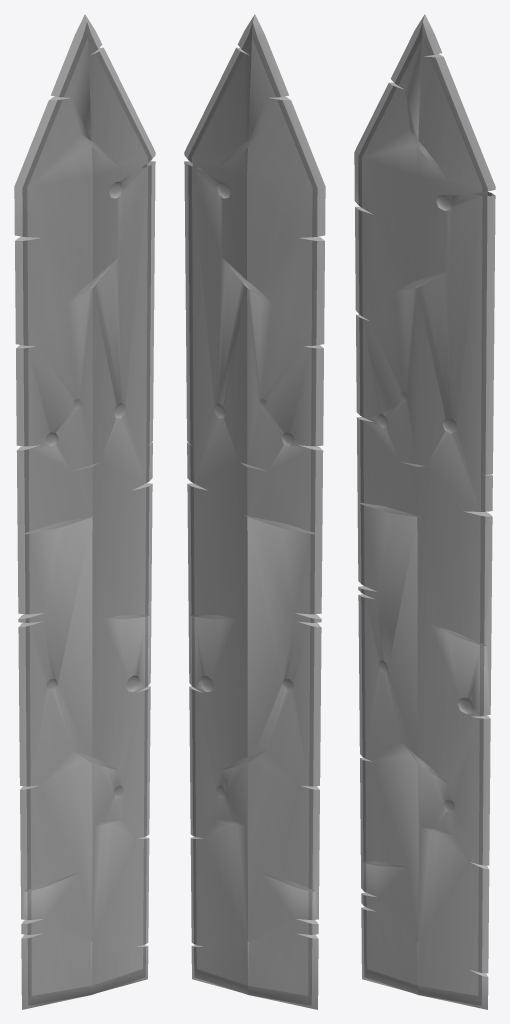
The model's file is stone_blade_bubbles_048.glb.
3 renders of one model, left to right at view 1: azimuth 30°, elevation 25°; view 2: azimuth 150°, elevation 25°; view 3: azimuth 330°, elevation 25°, orthographic.
Visible parts, largest first — view 1: stone_blade_bubbles.048; view 2: stone_blade_bubbles.048; view 3: stone_blade_bubbles.048.
Part boxes in pixels (x1,y1,x2,y2): stone_blade_bubbles.048: (14, 14, 155, 1009); stone_blade_bubbles.048: (184, 14, 325, 1009); stone_blade_bubbles.048: (354, 14, 495, 1009).
Bounding box in the file's own units: 1.71 × 11.4 × 0.3369.
1 material, 1 textured.
